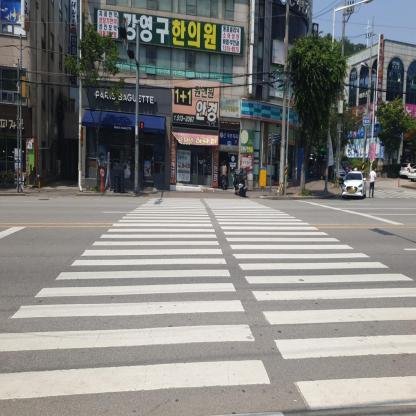Red: (140, 122, 144, 137)
